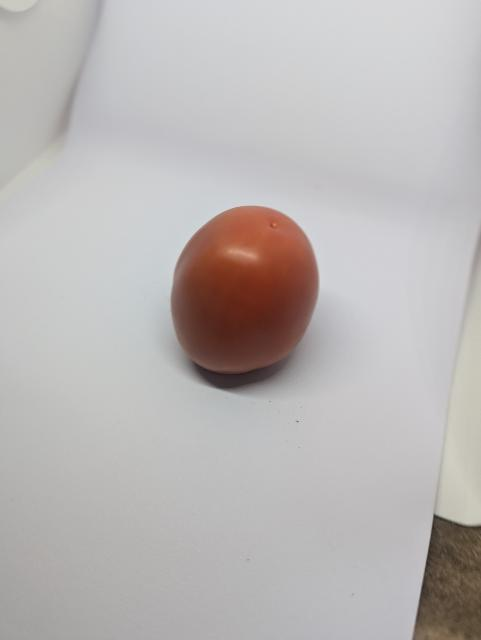red: (146, 197, 371, 413)
